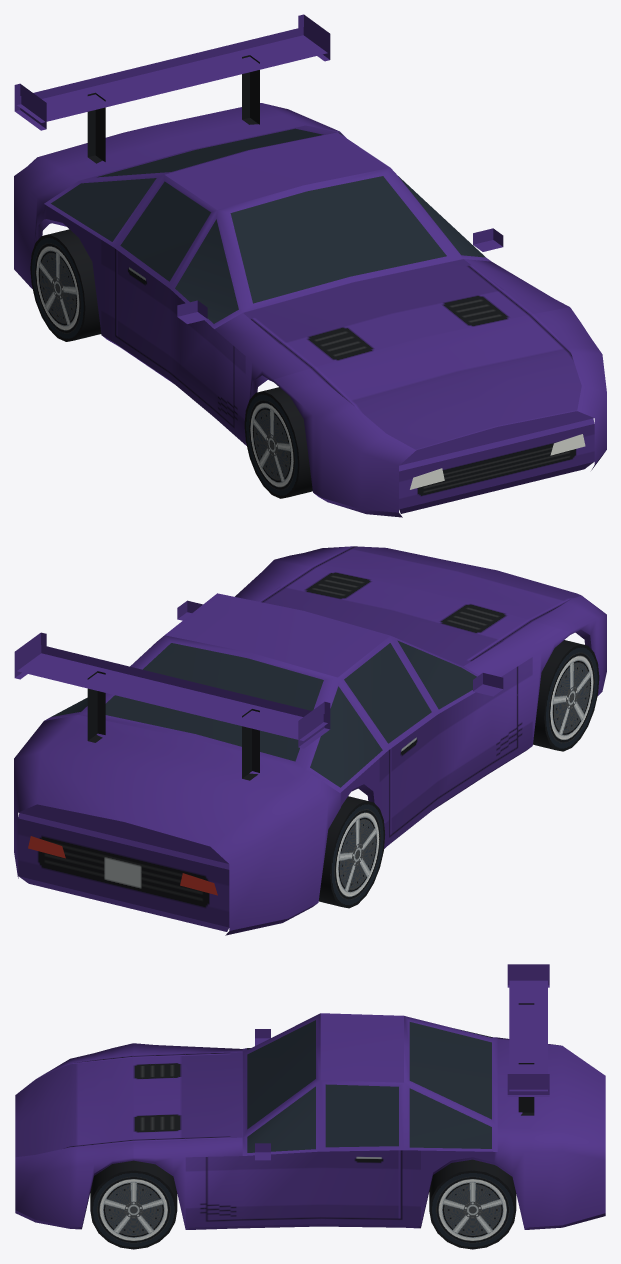
The model's file is tristar-remodeled.glb.
3 renders of one model, top to bottom at view 1: azimuth 30°, elevation 25°; view 2: azimuth 150°, elevation 25°; view 3: azimuth 270°, elevation 25°, orthographic. The views are drawn at different scales.
Parts seen in each view (by area): view 1: Body, rear wheel 3, front wheel 1; view 2: Body, front wheel 1, rear wheel 3; view 3: Body, rear wheel 4, front wheel 2.
Boxes of the visible parts, left/top/right/bottom form: Body: left=14, top=14, right=606, bottom=517; rear wheel 3: left=30, top=229, right=101, bottom=341; front wheel 1: left=244, top=387, right=312, bottom=498; Body: left=14, top=546, right=606, bottom=935; front wheel 1: left=533, top=640, right=599, bottom=751; rear wheel 3: left=318, top=796, right=385, bottom=908; Body: left=15, top=964, right=605, bottom=1229; rear wheel 4: left=429, top=1159, right=516, bottom=1249; front wheel 2: left=90, top=1160, right=177, bottom=1249.
Bounding box in the file's own units: 2.01 × 1.31 × 4.12.
7 materials, 5 textured.
